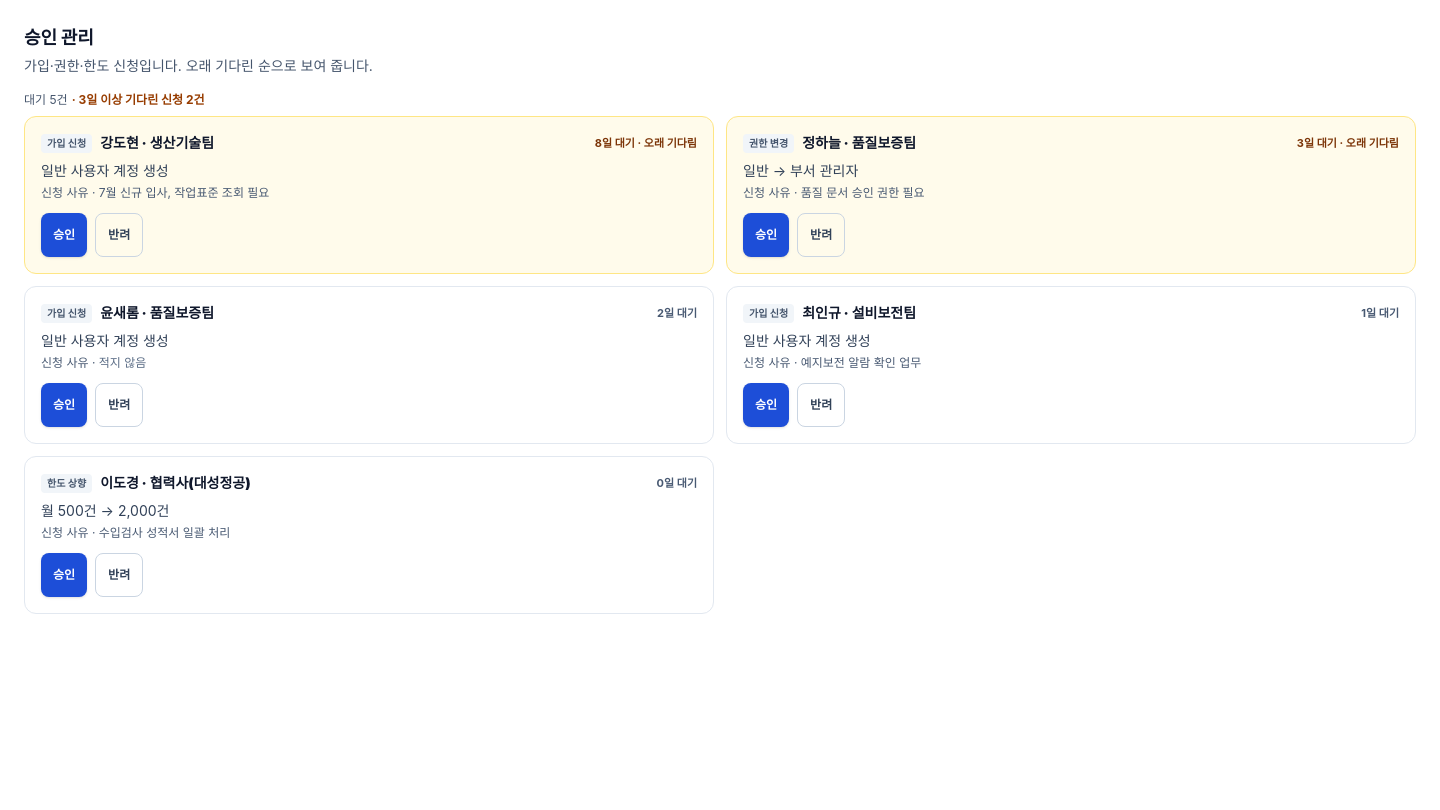
Scenario: 승인 관리 › 승인은 성공한 척하지 않는다
Click the button "승인" below "강도현" at (64, 235), box x1=41 y1=213 x2=87 y2=257
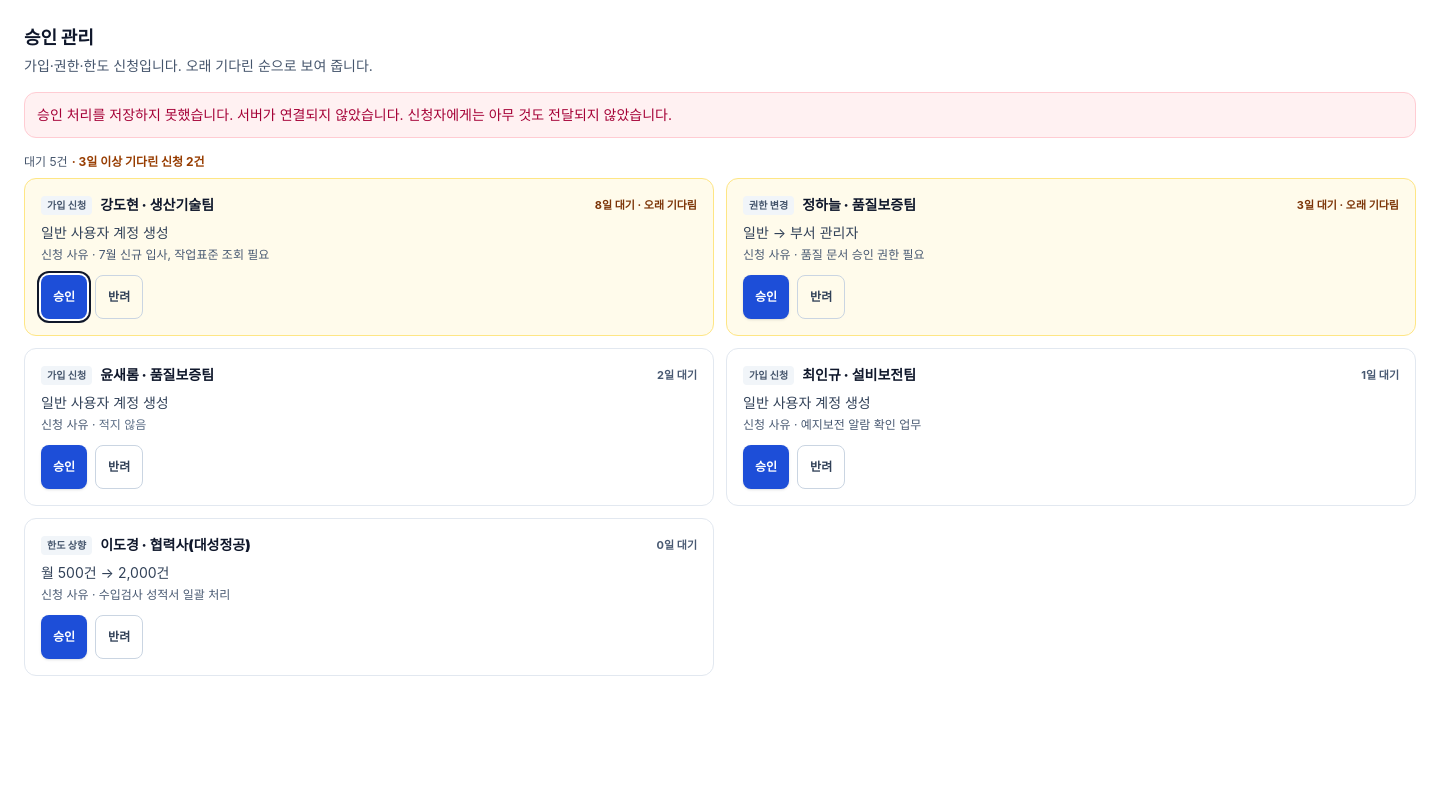
Check: the message shows "신청자에게는 아무 것도 전달되지 않았습니다", box x1=37 y1=106 x2=672 y2=123
